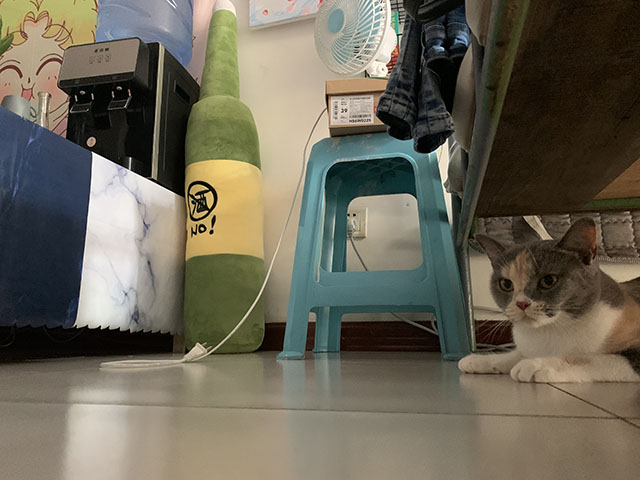bed: (440, 1, 640, 356)
stool: (274, 130, 475, 362)
table: (1, 105, 186, 356)
wire: (99, 105, 516, 369)
